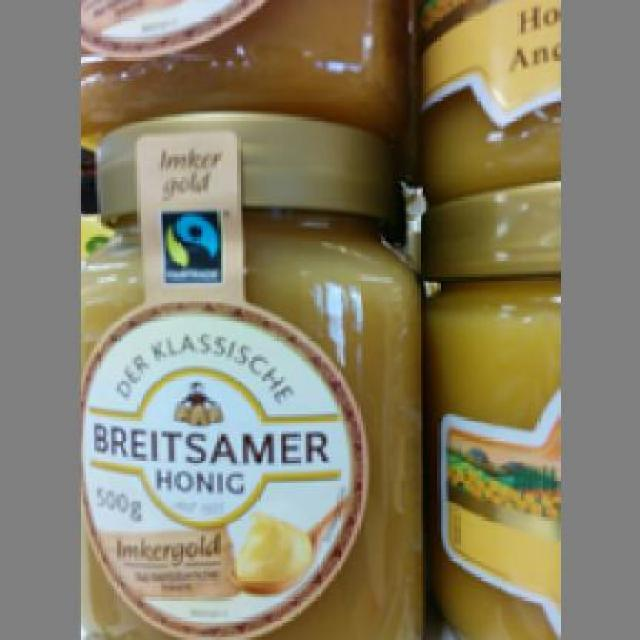Honey: (80, 108, 429, 634)
